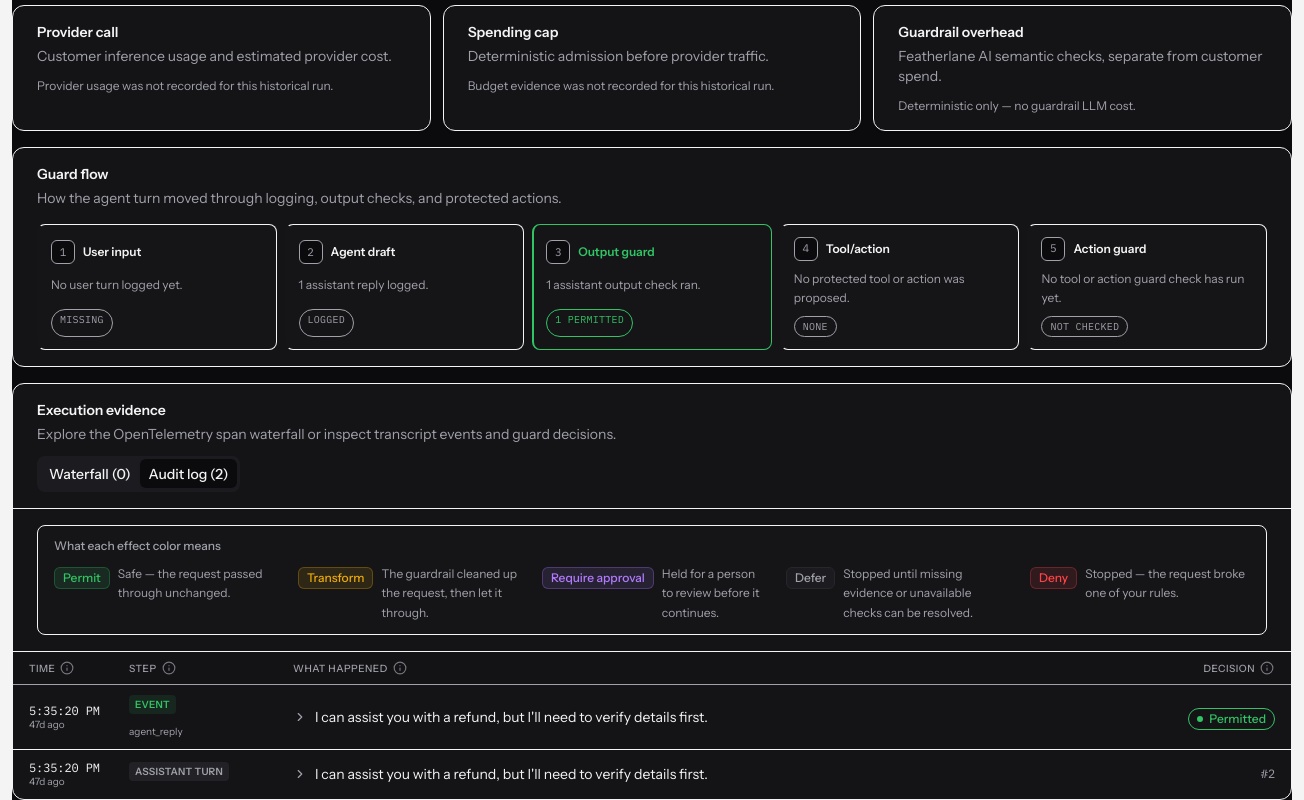
Test: RunDetailLiveView › shows assistant replies even when the output guard trace is linked
(page scrolled)
Click the button named "I can assist you with a refund, but I'll need to verify details first" at (652, 717), box [13,685,1291,749]
(page scrolled)
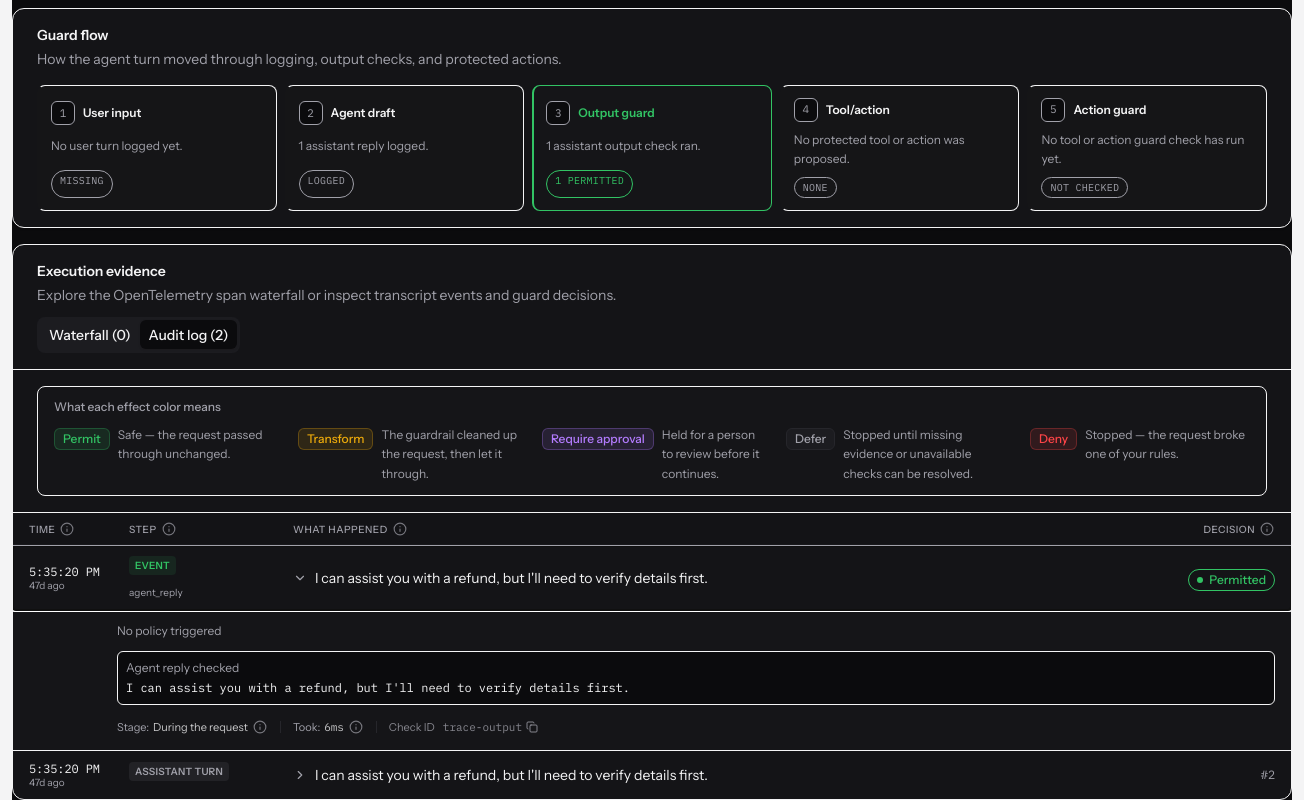
Now the text "Agent reply checked" is shown, box [126,660,239,675]
